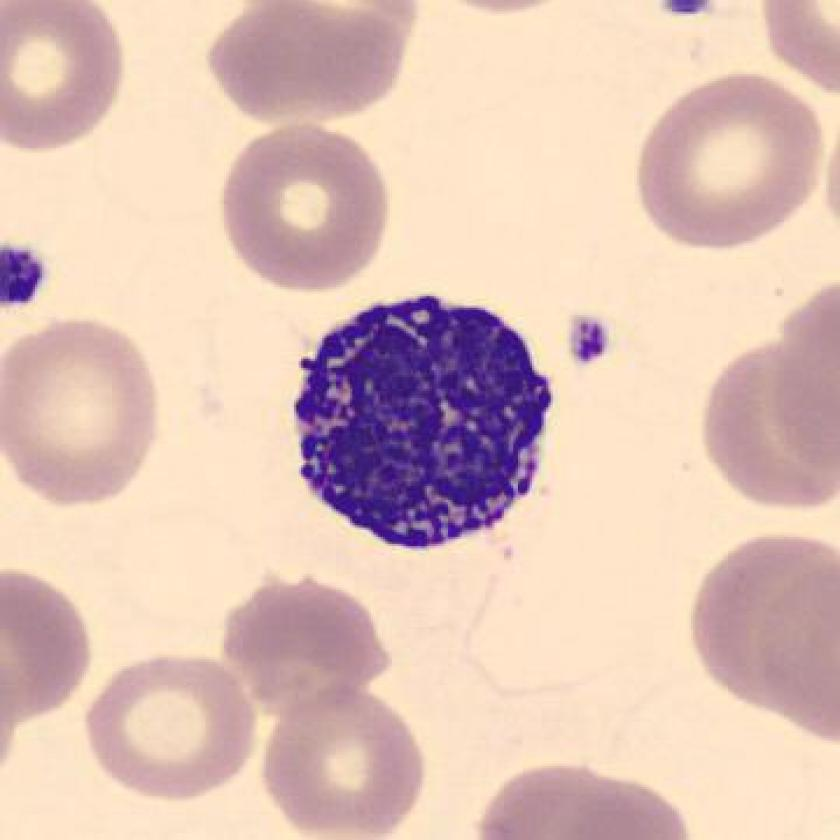basophil: (281, 286, 566, 561)
